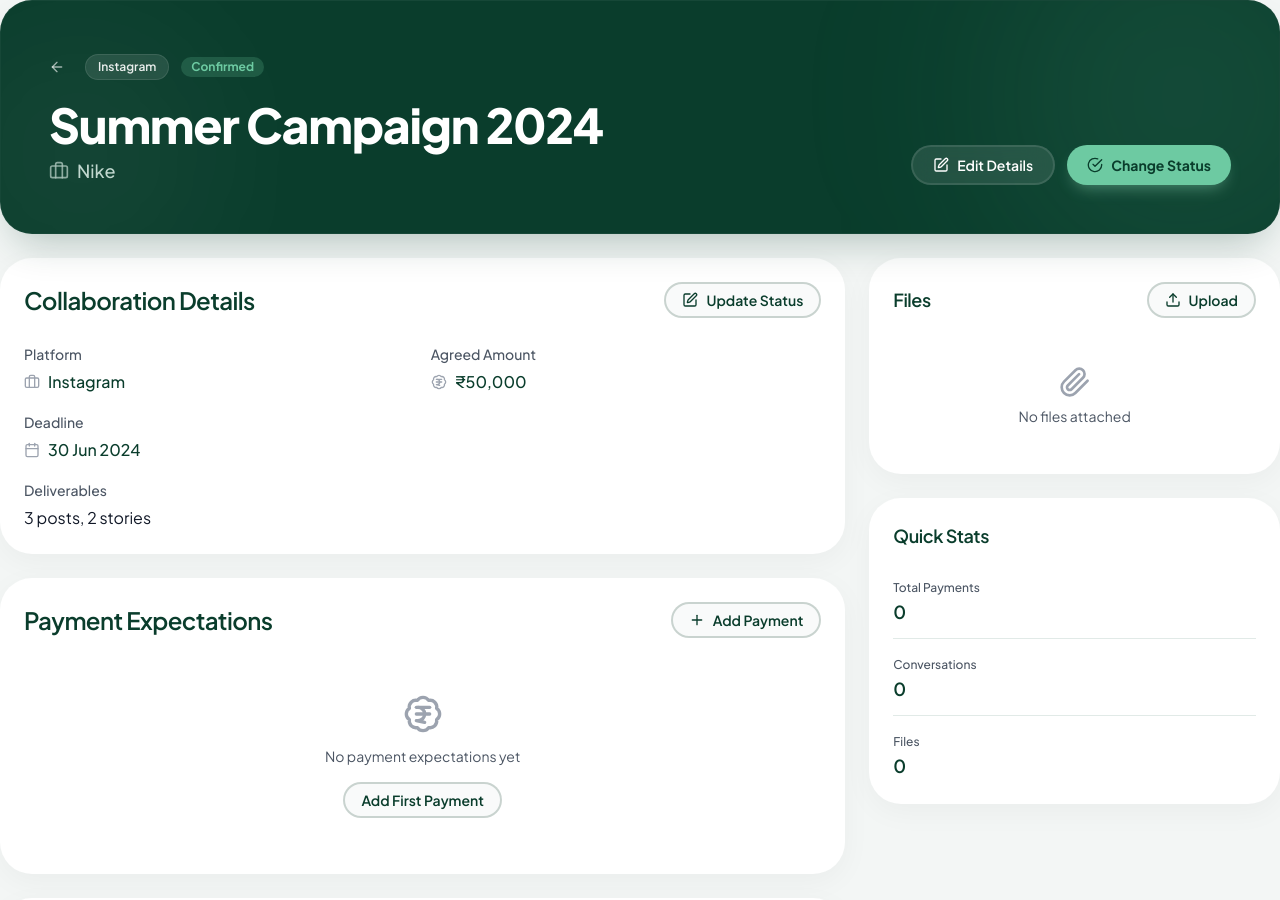
Scenario: CollaborationDetailPage › Extra Coverage: Status Update Submits › should validate posting date when status is Posted and allow cancel
Expected: the heading "Summer Campaign 2024" is shown, [49,101,603,149]
Click the button "Update Status" at (743, 300), box [664,282,821,318]
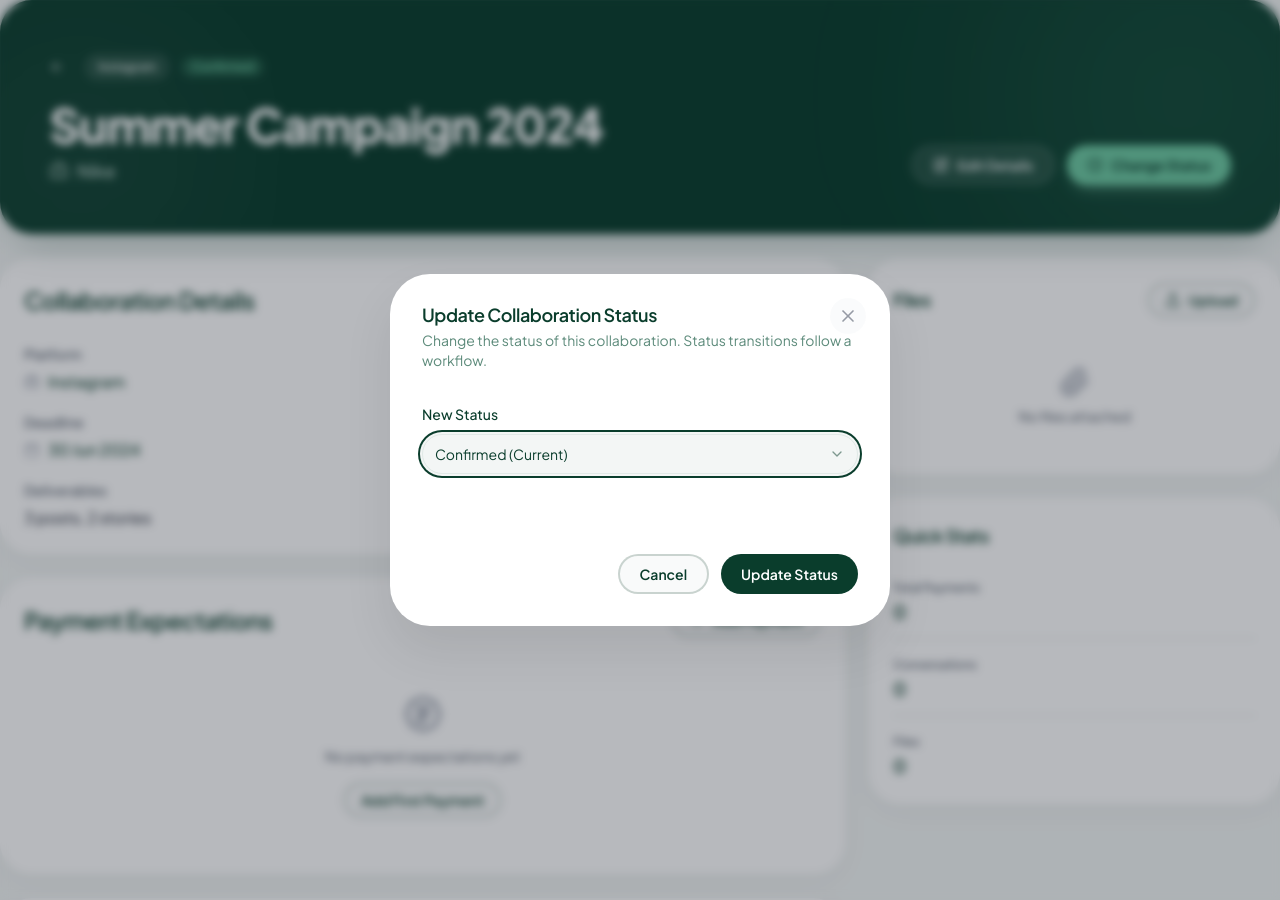
Result: the dialog is shown at [390,274,890,626]
Click the dropdown named "new status" at (471, 454), box [422,434,858,474]
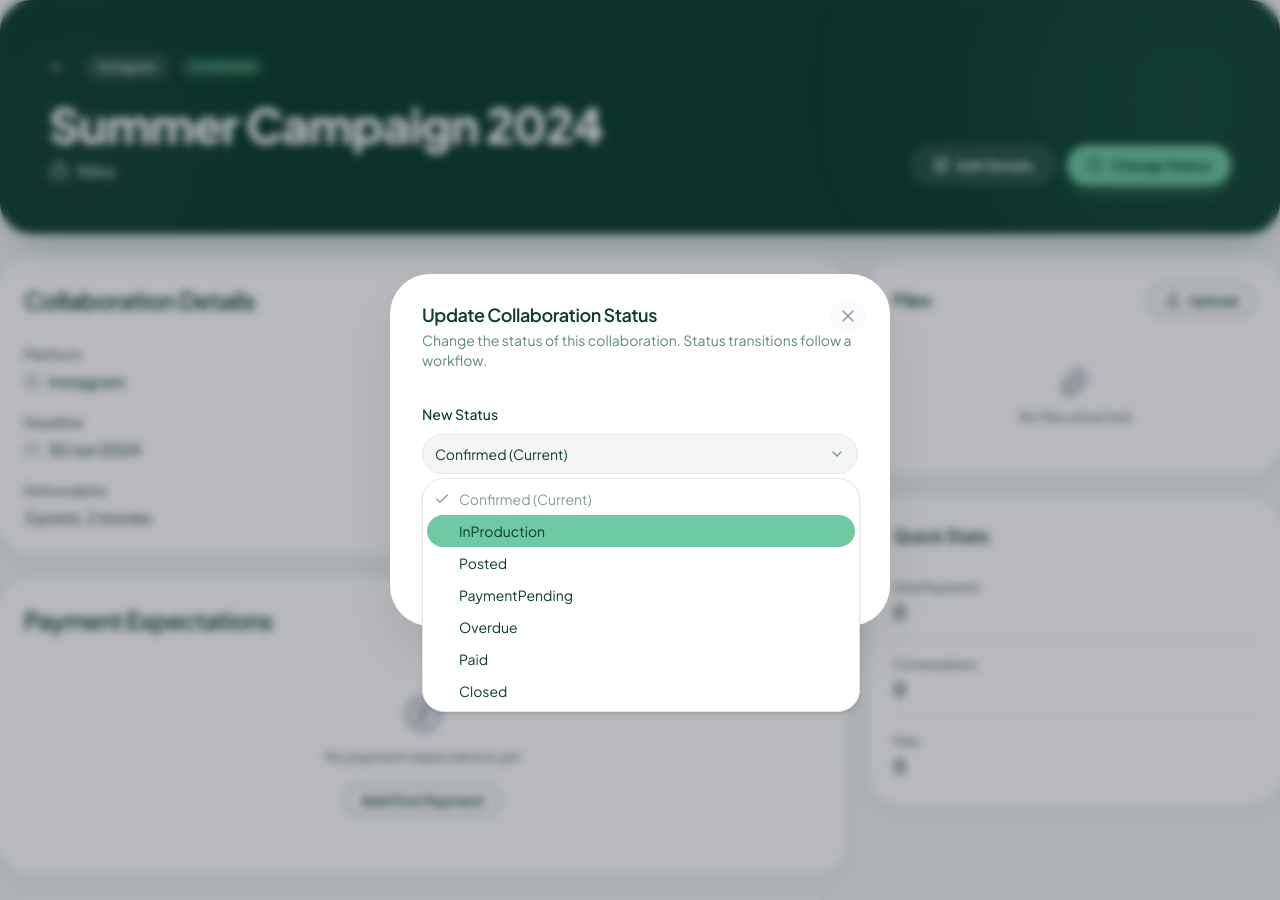
Click the option "Posted" at (483, 563), box [459,554,507,572]
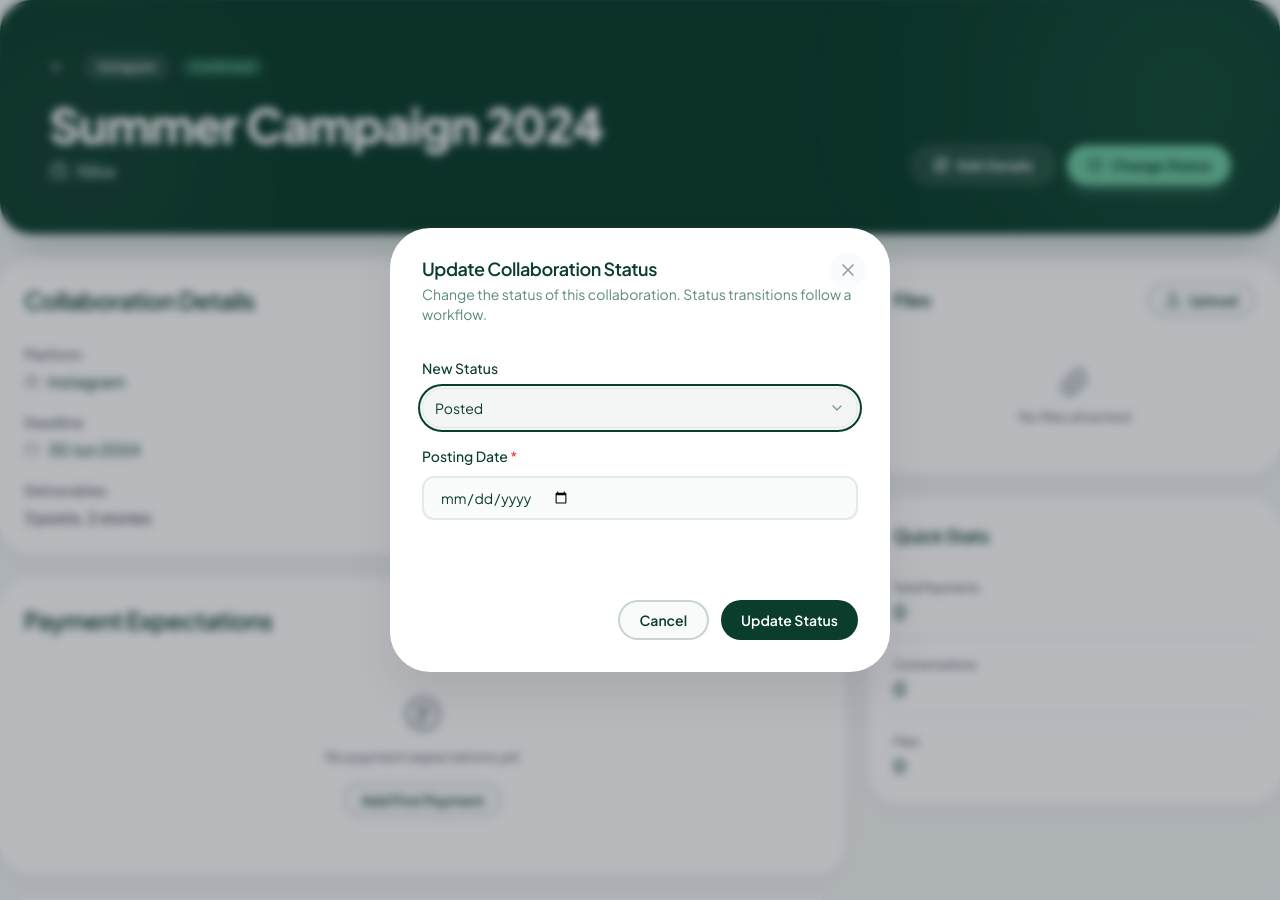
Click the button "Update Status" at (790, 620), box [721,600,858,640]
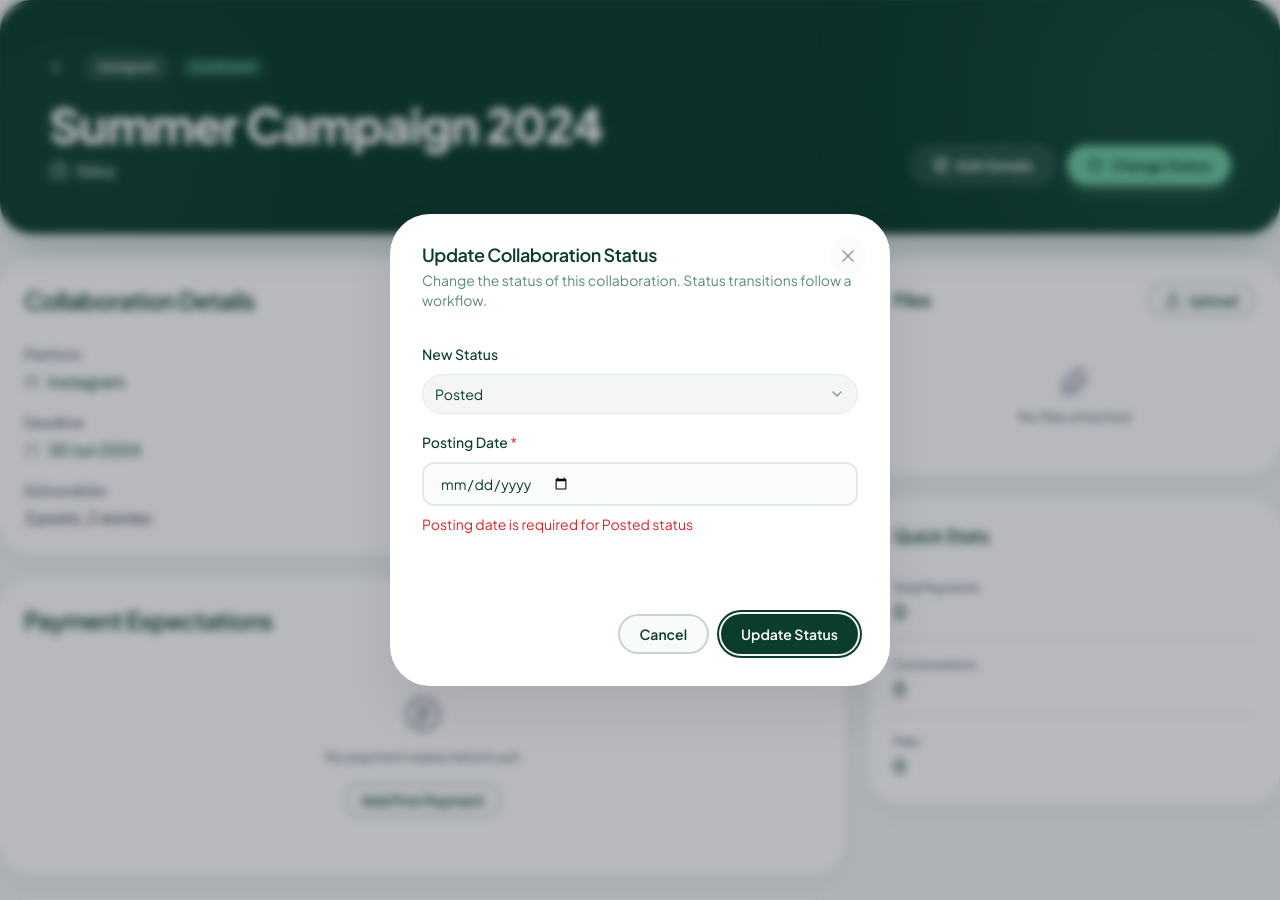
Result: the text "Posting date is required for Posted status" is shown at [422,515,693,533]
Type "2024-08-01" into the date field labelled "Posting Date *" at (640, 484), box [422,462,858,506]
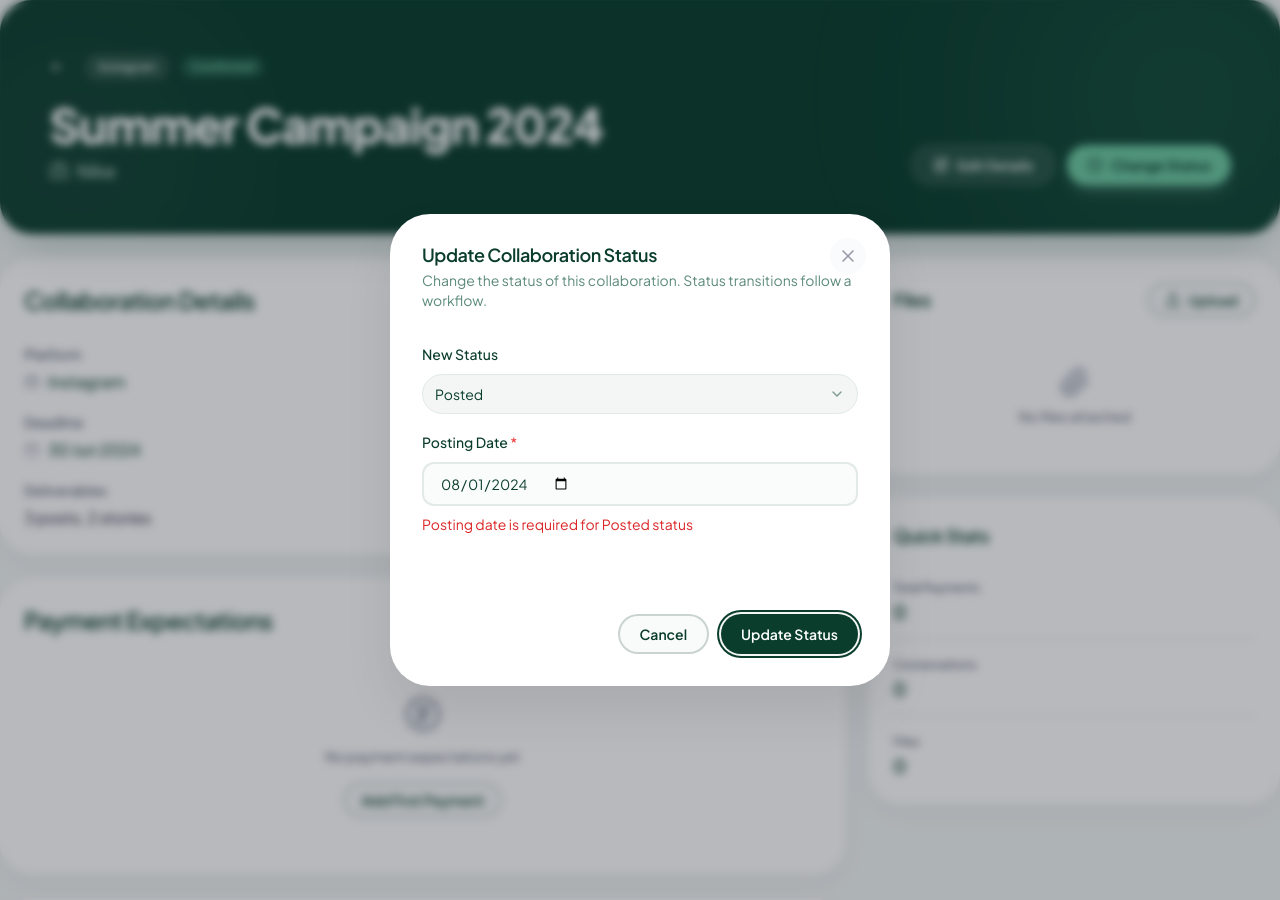
Click the button "Cancel" at (663, 634), box [618,614,709,654]
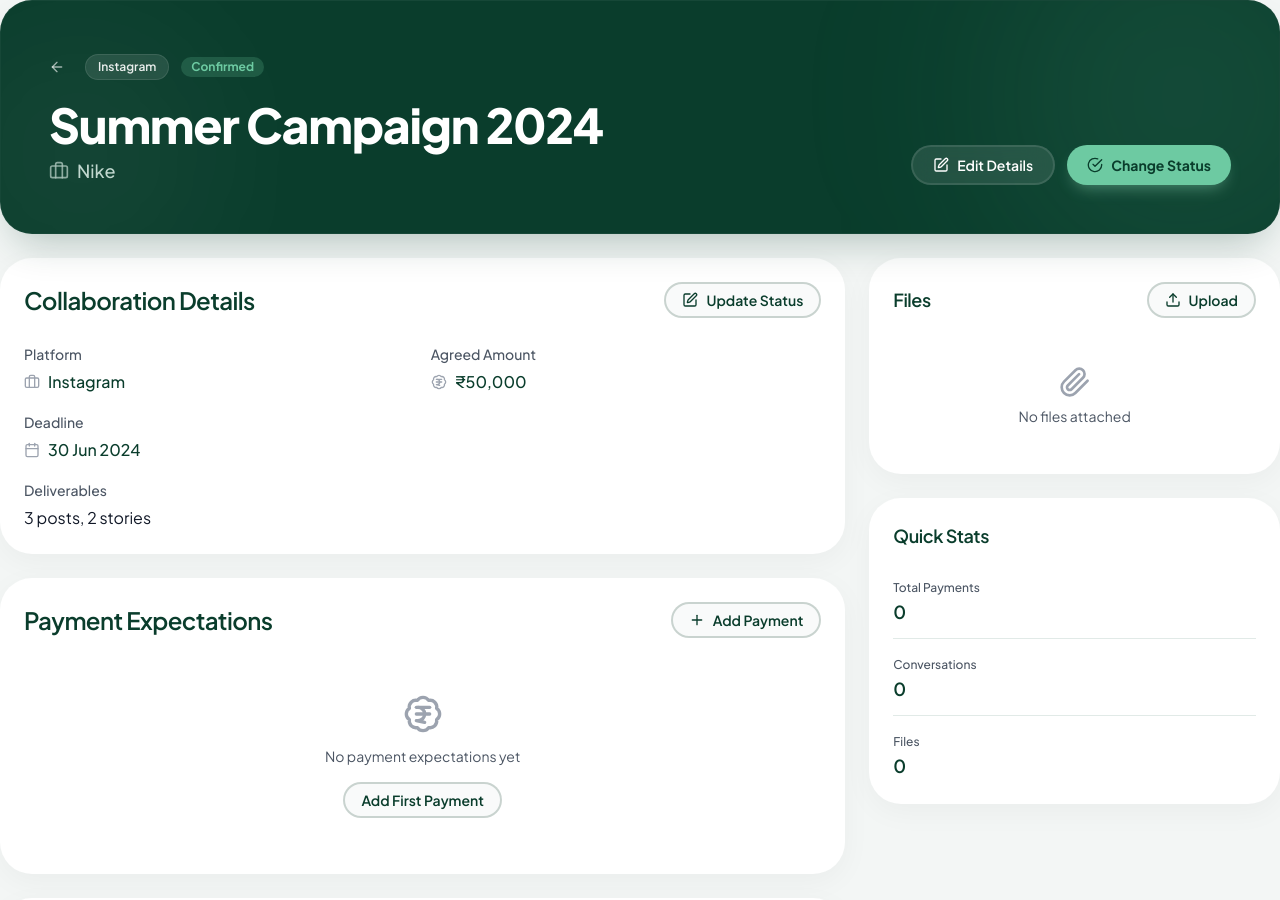
Result: the dialog is gone
